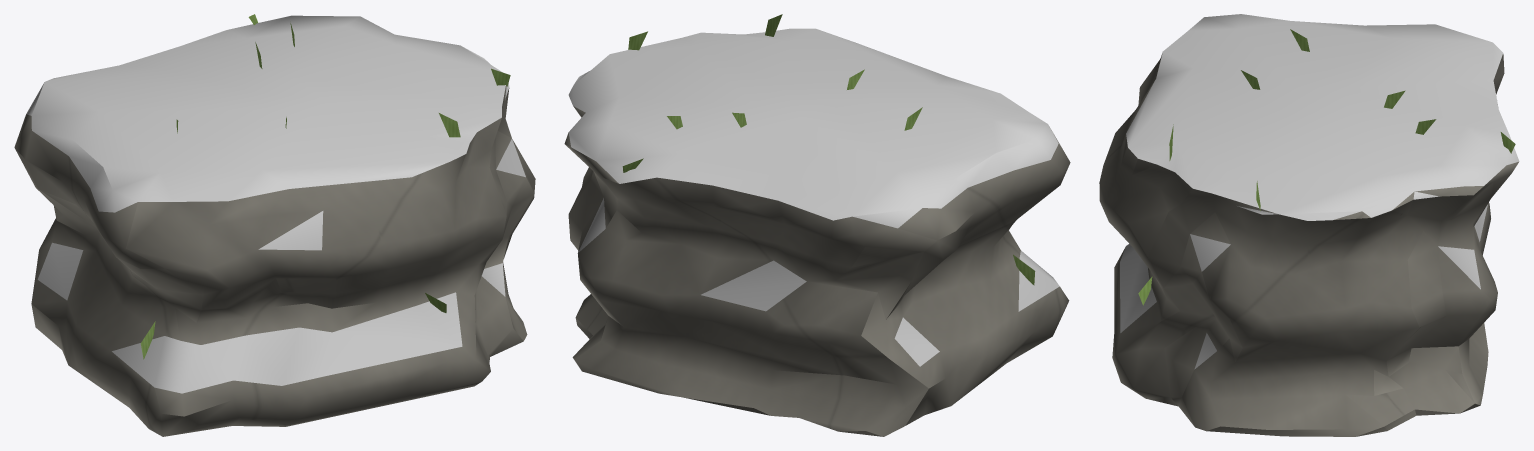
The model's file is Furn_Rock_Shore_B.fbx.
3 views of the same model, side by side, from view 1: azimuth 30°, elevation 25°; view 2: azimuth 150°, elevation 25°; view 3: azimuth 270°, elevation 25° (orthographic).
Visible parts, largest first — view 1: Furn_Rock_Shore_B; view 2: Furn_Rock_Shore_B; view 3: Furn_Rock_Shore_B.
Part boxes in pixels (box(x1,y1,x2,y2)): Furn_Rock_Shore_B: box(14, 14, 535, 436); Furn_Rock_Shore_B: box(564, 14, 1070, 436); Furn_Rock_Shore_B: box(1099, 14, 1519, 436).
Size of the model in its own units: 3 by 1.8 by 2.5.
